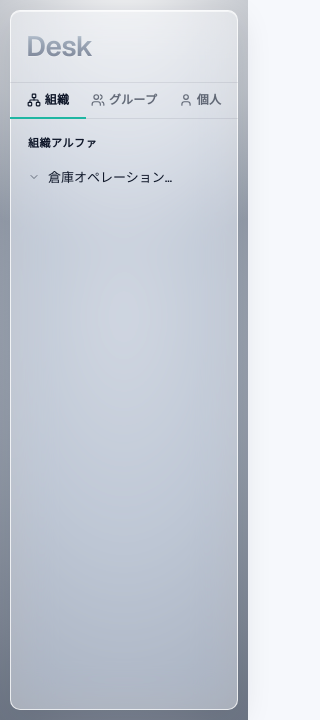
Test case: DeskSidebar（実 API・CM-2 スライスB） › 3 タブ（組織/グループ/個人）が存在し切り替えでパネルが前面に出る
Expected: the text "組織アルファ" is shown, [28, 135, 97, 152]
Expected: the tab "組織" is shown, [10, 83, 86, 119]
Click the tab "グループ" at (124, 101), box [86, 83, 162, 119]
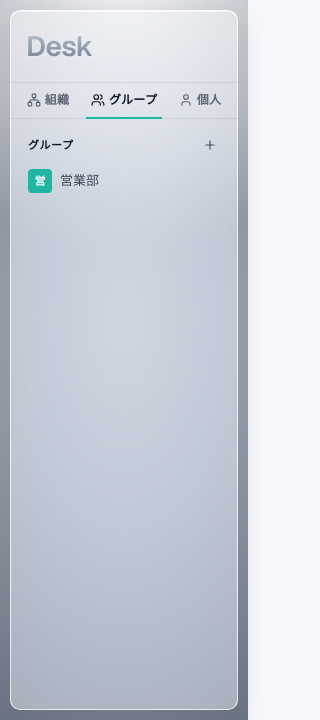
Expected: the text "営業部" is shown, [60, 172, 99, 189]
Click the tab "個人" at (200, 101), box [162, 83, 238, 119]
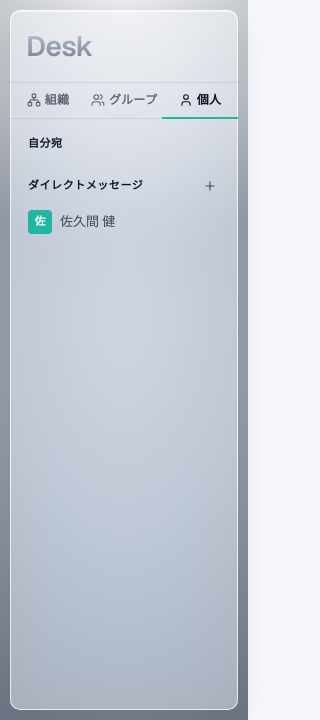
Expected: the text "佐久間 健" is shown, [60, 213, 115, 230]
